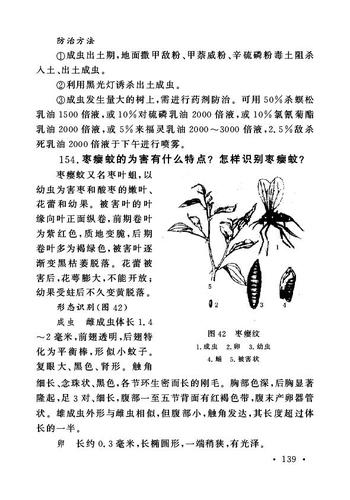Cecidomyiidae: (250, 178, 302, 258)
